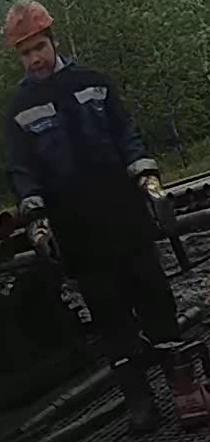gloves: (132, 153, 182, 236), (18, 195, 62, 263)
helmet: (2, 0, 54, 50)
vest: (5, 59, 149, 260)
